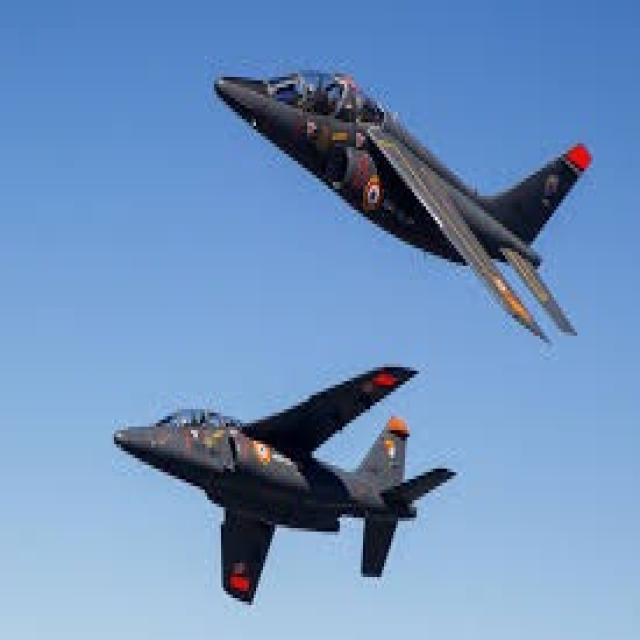jet: (156, 0, 631, 346), (70, 318, 479, 640)
